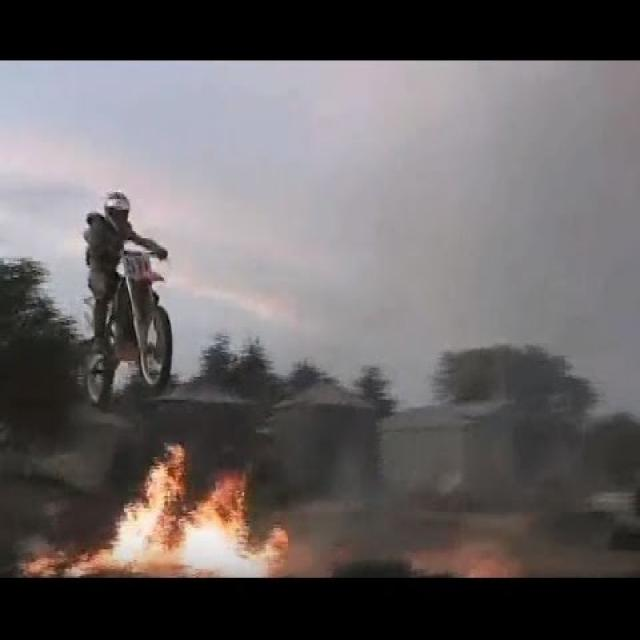fire: (64, 440, 189, 577), (173, 468, 251, 578), (410, 543, 525, 576), (247, 523, 289, 577), (12, 544, 69, 578)
